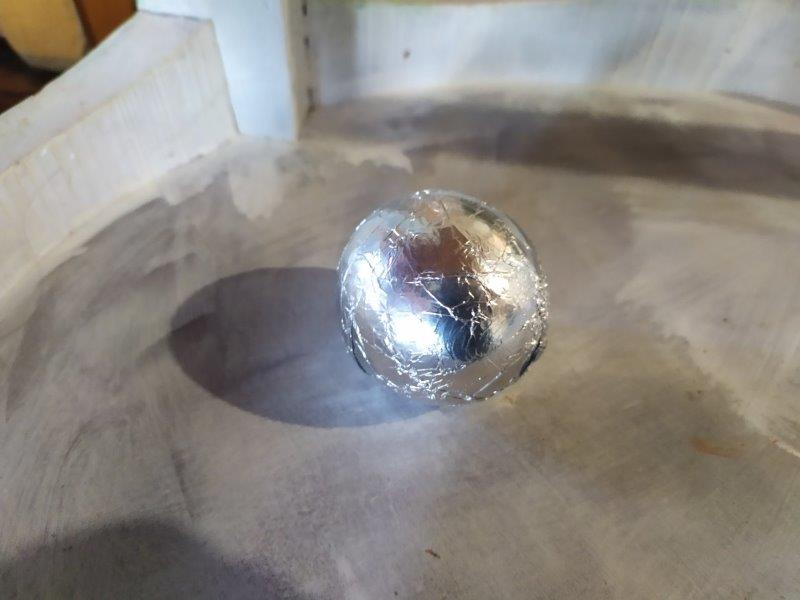bianca: (333, 187, 553, 403)
